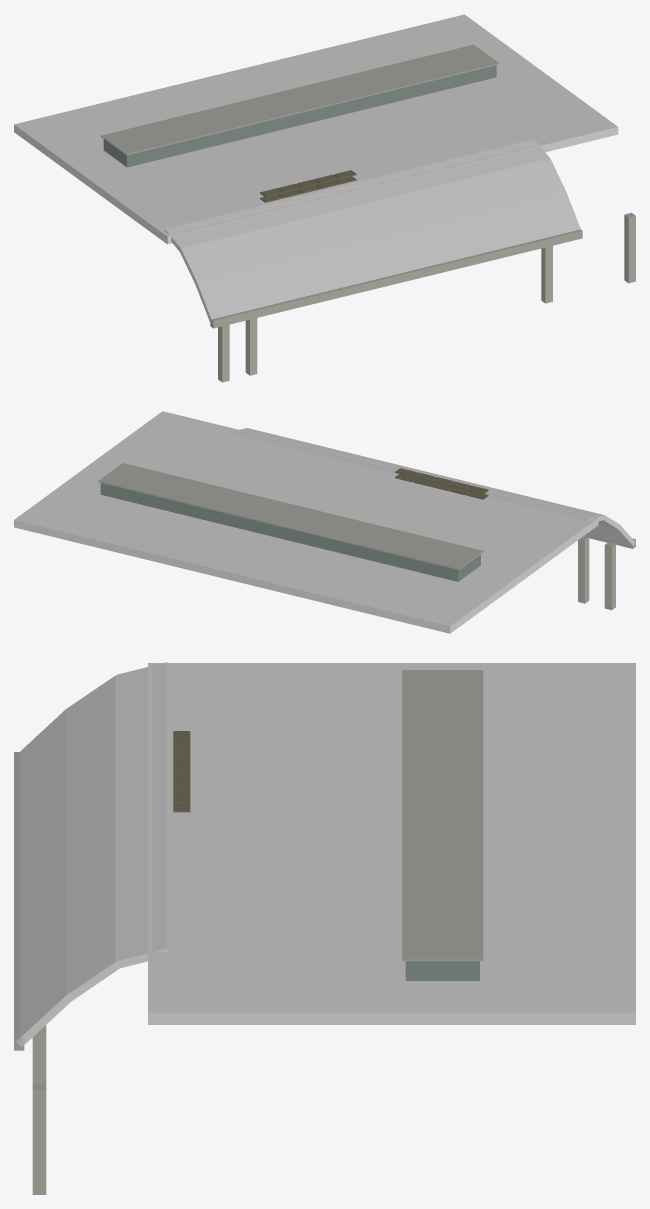
The model's file is SM_VestibuloCastellon_v1_Segura_LOD1.fbx.
3 views of the same model, one above another, from view 1: azimuth 30°, elevation 25°; view 2: azimuth 150°, elevation 25°; view 3: azimuth 270°, elevation 25° (orthographic). The views are drawn at different scales.
Parts seen in each view (by area): view 1: Cubierta; view 2: Cubierta; view 3: Cubierta.
Part boxes in pixels (x1=…): Cubierta: x1=14, y1=14, x2=635, y2=382; Cubierta: x1=14, y1=411, x2=635, y2=633; Cubierta: x1=14, y1=662, x2=635, y2=1194.
Size of what is drawn, in the model's own units: 24.4 by 7.15 by 18.35.
